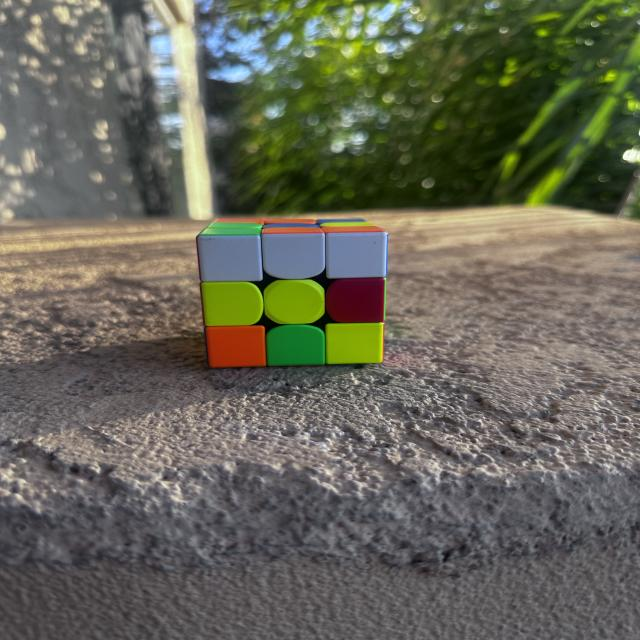sticker: (198, 222, 266, 284), (261, 226, 327, 282), (323, 228, 389, 281), (323, 276, 388, 326), (200, 280, 266, 328), (263, 279, 326, 326), (204, 325, 268, 368), (324, 322, 387, 365), (266, 324, 328, 366), (199, 221, 267, 232), (262, 218, 317, 225), (214, 218, 266, 225), (316, 219, 366, 225)
